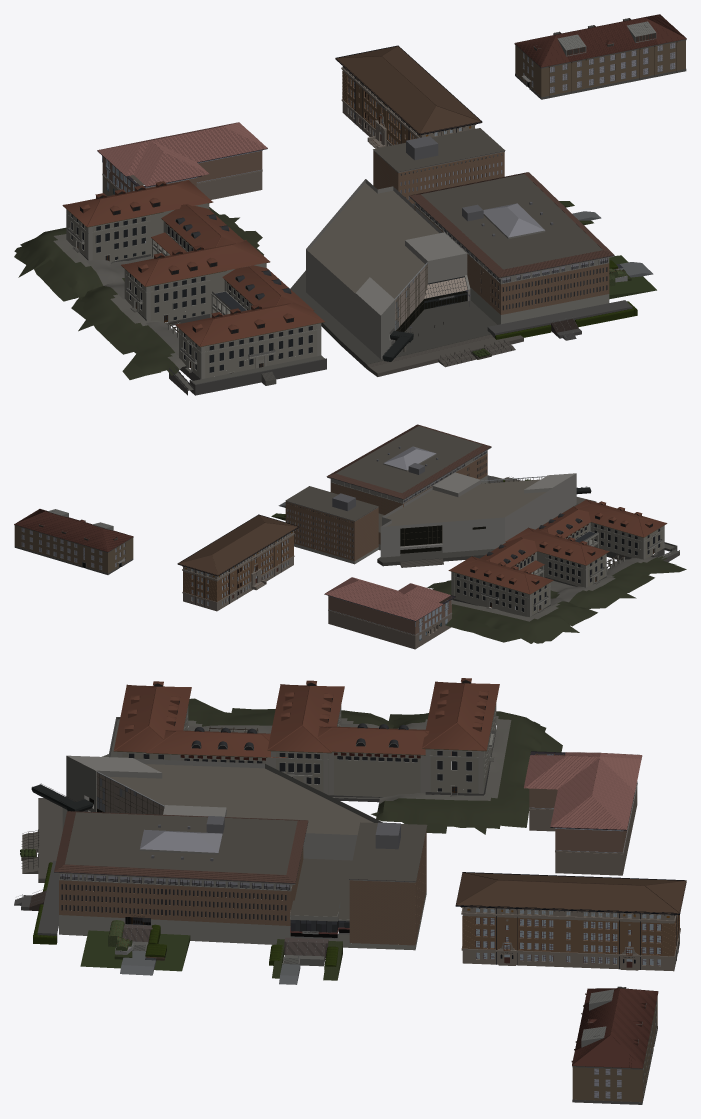
3 views of the same model, one above another, from view 1: azimuth 30°, elevation 25°; view 2: azimuth 150°, elevation 25°; view 3: azimuth 270°, elevation 25° (orthographic). The views are drawn at different scales.
Parts seen in each view (by area): view 1: opaque (×2), glass; view 2: opaque (×2), glass; view 3: opaque (×2), glass.
Part boxes in pixels (x1,y1,x2,y2): opaque (×2): (14,14,686,395); glass: (71,43,675,373); opaque (×2): (14,424,686,649); glass: (21,446,659,639); opaque (×2): (14,678,686,1104); glass: (60,698,660,1098).
Size of the model in its own units: 292 by 30.71 by 204.
Materials: 8 (8 with a texture image).
